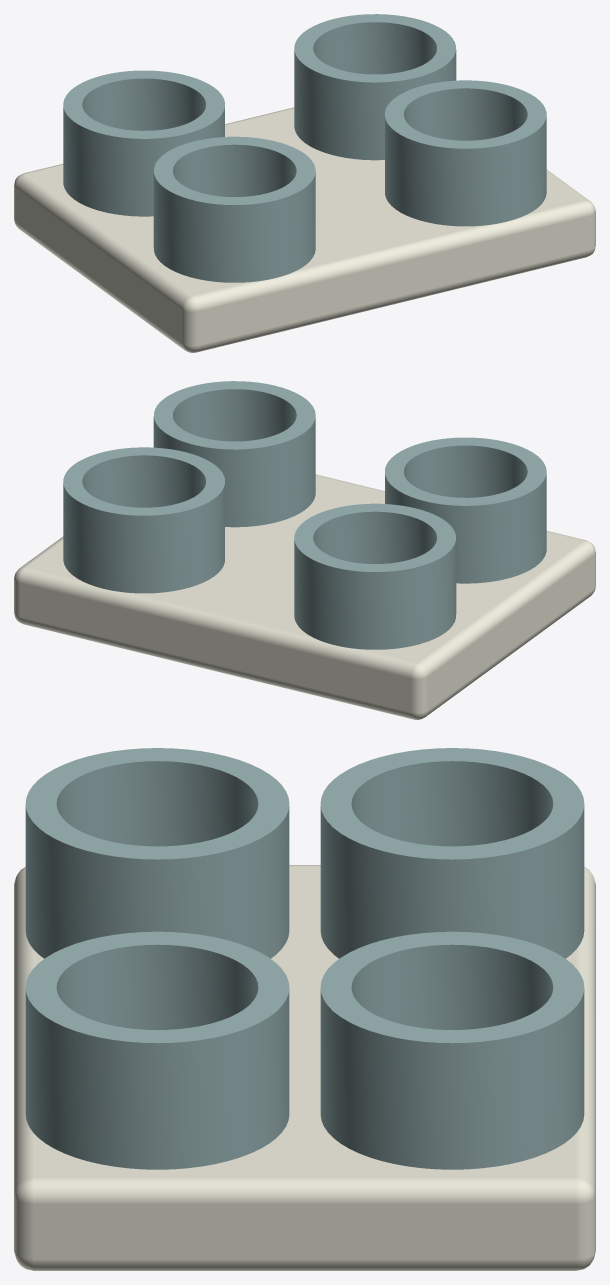
Rendered from clockmaker-and-watch-repair-oil-cup-palette-ecebd2e5__30627.glb.
The picture shows the model from 3 angles, top to bottom: view 1: azimuth 30°, elevation 25°; view 2: azimuth 150°, elevation 25°; view 3: azimuth 270°, elevation 25°; orthographic projection. The views are drawn at different scales.
Parts seen in each view (by area): view 1: oil-cup-palette; view 2: oil-cup-palette; view 3: oil-cup-palette.
Boxes of the visible parts, x1,y1,x2,y2 form: oil-cup-palette: (14, 14, 595, 352); oil-cup-palette: (14, 381, 595, 719); oil-cup-palette: (14, 748, 595, 1270).
Bounding box in the file's own units: 0.1 × 0.031 × 0.075.
